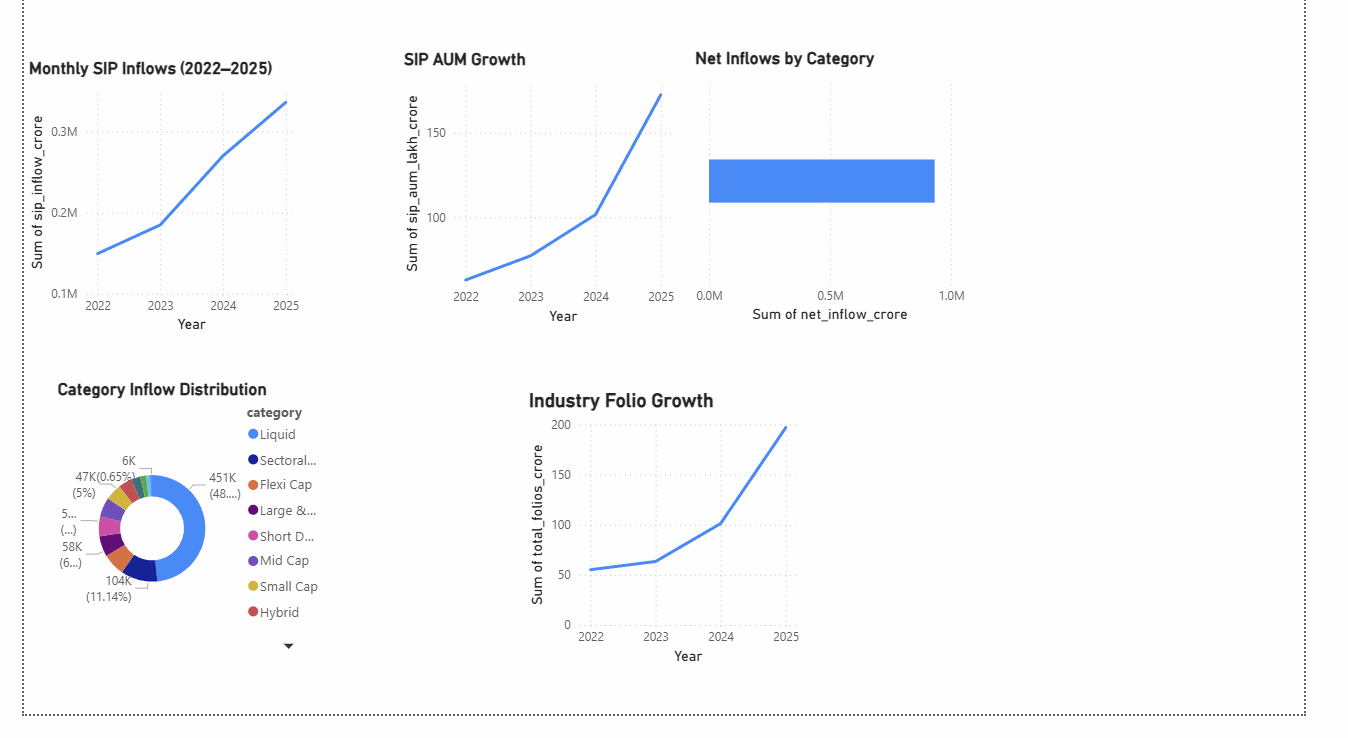

The page's visual inventory and layout, read from the dashboard file:
{"tool":"powerbi","page":{"name":"SIP & Market Trends","canvas":[1280,720],"ordinal":3},"visuals":[{"type":"lineChart","title":"Monthly SIP Inflows (2022–2025)","fields":{"Category":["04_monthly_sip_inflows.month.Variation.Date Hierarchy.Year","04_monthly_sip_inflows.month.Variation.Date Hierarchy.Quarter","04_monthly_sip_inflows.month.Variation.Date Hierarchy.Month","04_monthly_sip_inflows.month.Variation.Date Hierarchy.Day"],"Y":["Sum(04_monthly_sip_inflows.sip_inflow_crore)"]},"box":[0,63.3,280,280],"z":0},{"type":"lineChart","title":"SIP AUM Growth","fields":{"Category":["04_monthly_sip_inflows.month.Variation.Date Hierarchy.Year","04_monthly_sip_inflows.month.Variation.Date Hierarchy.Quarter","04_monthly_sip_inflows.month.Variation.Date Hierarchy.Month","04_monthly_sip_inflows.month.Variation.Date Hierarchy.Day"],"Y":["Sum(04_monthly_sip_inflows.sip_aum_lakh_crore)"]},"box":[375.6,54.4,280,280],"z":1000},{"type":"clusteredBarChart","title":"Net Inflows by Category","fields":{"Y":["Sum(05_category_inflows.net_inflow_crore)"]},"box":[666,54,280,280],"z":2000},{"type":"donutChart","title":"Category Inflow Distribution","fields":{"Y":["Sum(05_category_inflows.net_inflow_crore)"],"Category":["05_category_inflows.category"]},"box":[28.9,384.4,280,280],"z":2001},{"type":"lineChart","title":"Industry Folio Growth","fields":{"Category":["06_industry_folio_count.month.Variation.Date Hierarchy.Year","06_industry_folio_count.month.Variation.Date Hierarchy.Quarter","06_industry_folio_count.month.Variation.Date Hierarchy.Month","06_industry_folio_count.month.Variation.Date Hierarchy.Day"],"Y":["Sum(06_industry_folio_count.total_folios_crore)"]},"box":[500,395.6,280,280],"z":2002}]}

Visuals, with their boxes in screenshot pixels (x1, y1, x2, y2), scaled from the page's 1280x720 canvas onto the 1348x738 screenshot:
"Monthly SIP Inflows (2022–2025)" lineChart: rect(0, 65, 295, 352)
"SIP AUM Growth" lineChart: rect(396, 56, 690, 343)
"Net Inflows by Category" clusteredBarChart: rect(701, 55, 996, 342)
"Category Inflow Distribution" donutChart: rect(30, 394, 325, 681)
"Industry Folio Growth" lineChart: rect(527, 405, 821, 692)
